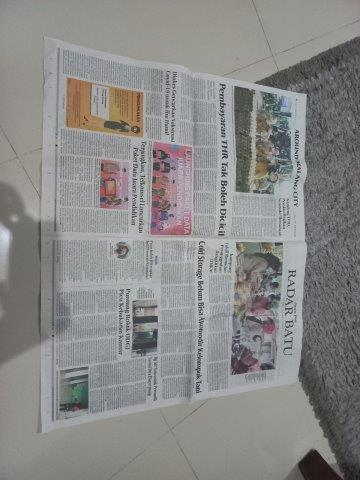kertas: (43, 36, 307, 432)
